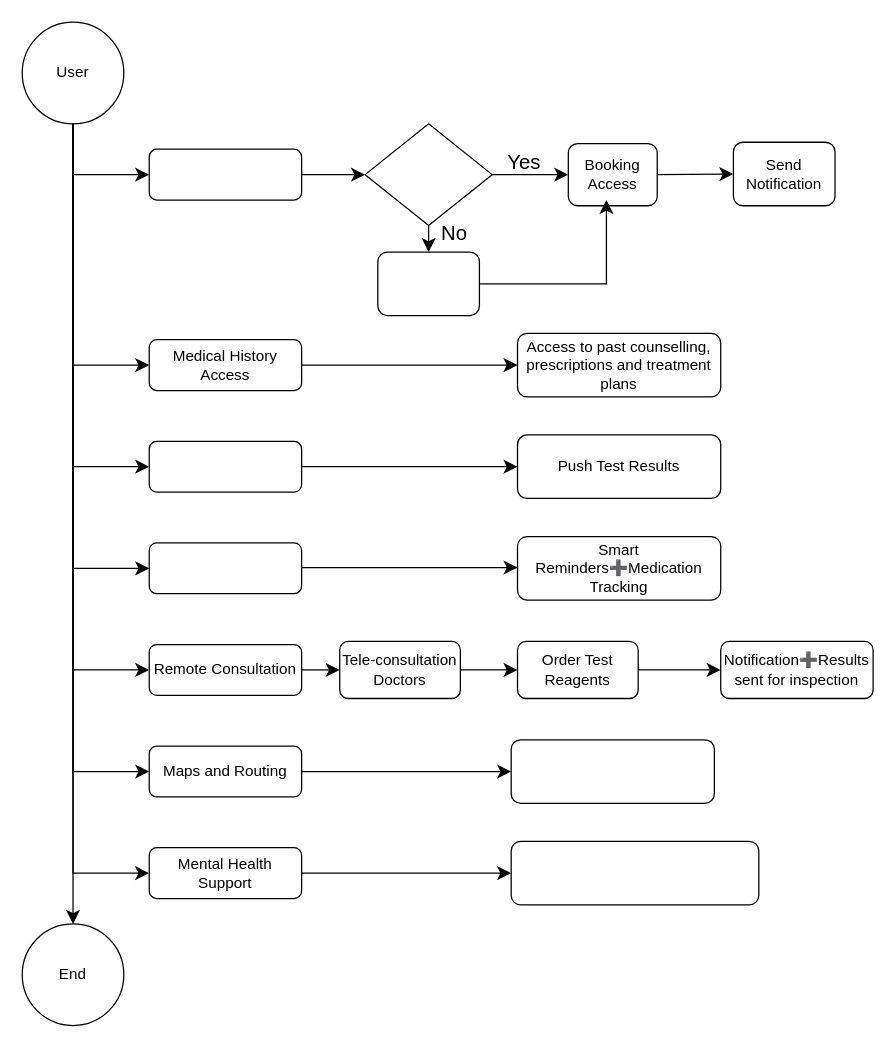
The diagram is 895 pixels wide and 1048 high, and some of its shapes have lost their labels. Each missing label, with the box of its shape:
appointment Scheduling and Management: (148, 148, 302, 200)
AR Map➕Guide: (510, 739, 714, 803)
Check Doctor Availability: (364, 123, 492, 225)
Medication Management and Reminder Medication: (148, 542, 302, 594)
Offering Meditation➕Relaxation Training➕Short- term Counselling: (510, 840, 759, 905)
Select Another Time: (377, 251, 479, 316)
Test Results and Notifications: (148, 440, 302, 492)
